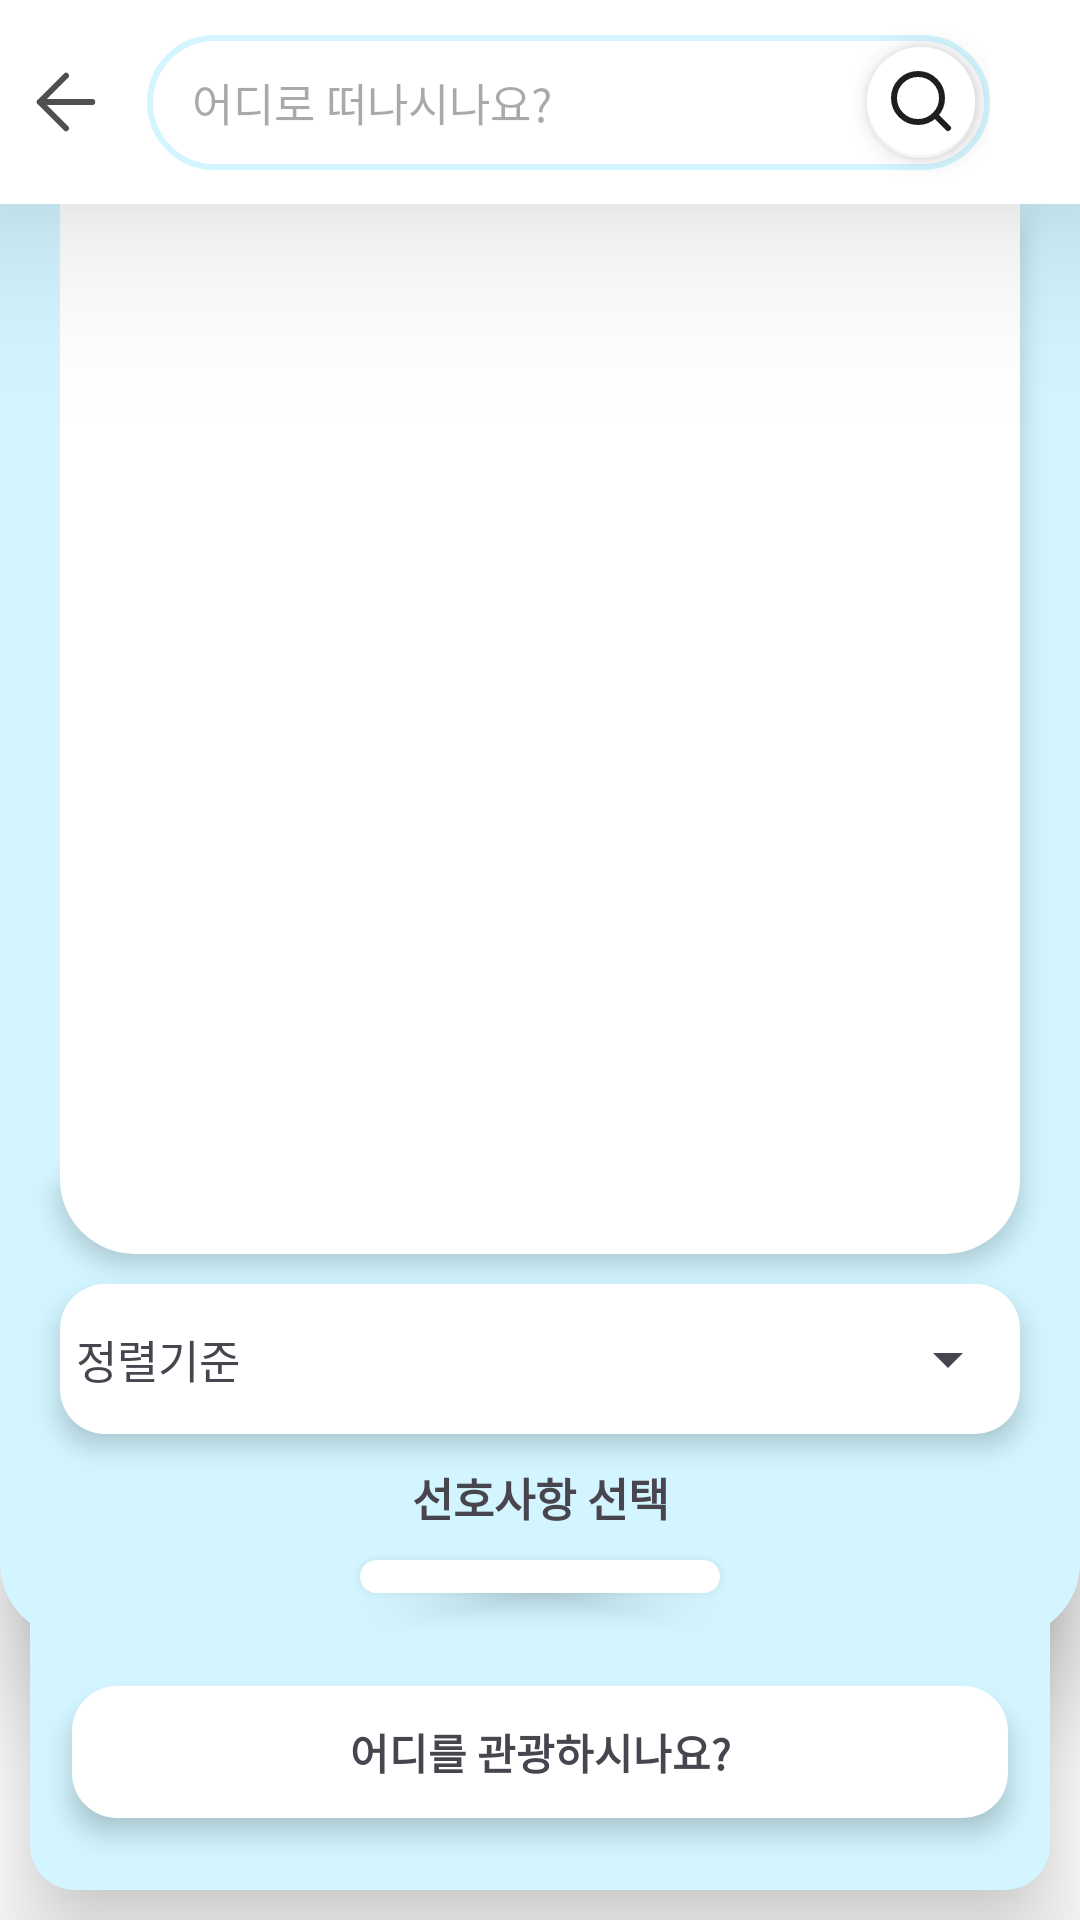

Icon click points for this 1080px×1920px phone screenshot, format (x,y):
back arrow: (66,102)
search: (933,104)
